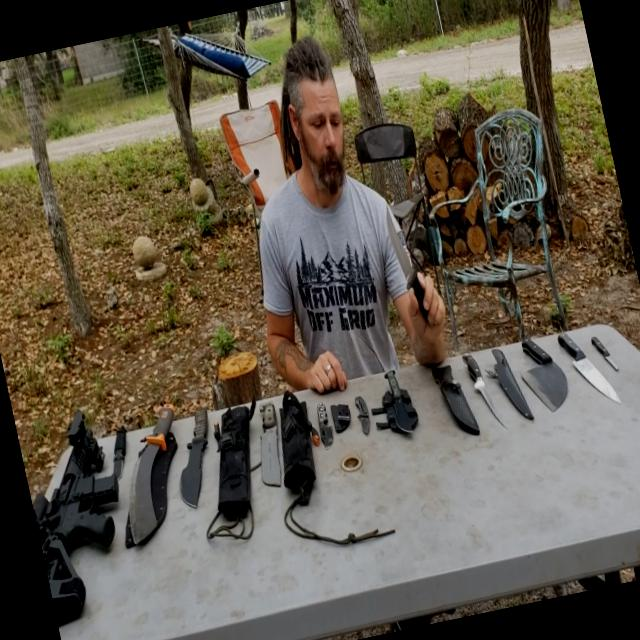knife: (104, 401, 208, 546), (154, 393, 249, 528), (378, 166, 449, 332), (296, 369, 360, 464), (240, 393, 302, 489), (514, 326, 573, 426), (558, 326, 627, 408), (458, 333, 508, 435), (365, 364, 427, 442), (586, 324, 630, 388), (98, 416, 136, 484), (340, 380, 383, 440)
long weapon: (12, 388, 157, 622)
